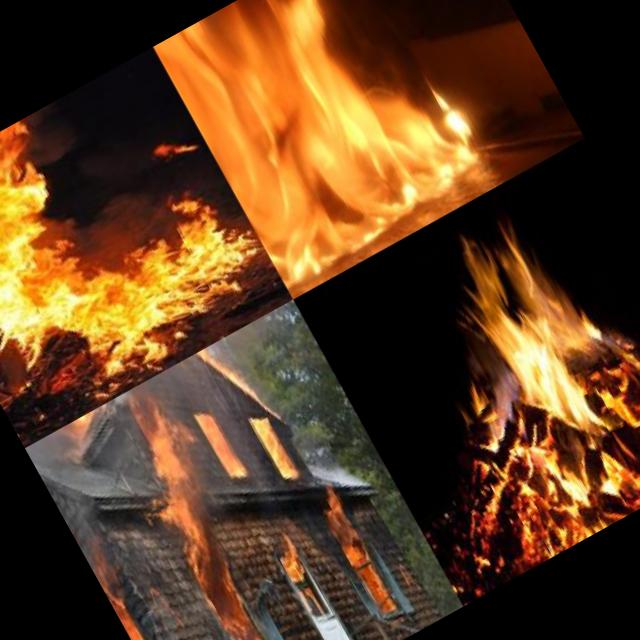fire: (153, 0, 532, 299), (372, 157, 640, 547), (0, 55, 271, 437), (107, 392, 283, 640), (312, 484, 416, 628), (99, 573, 194, 640), (192, 406, 252, 488), (196, 334, 262, 407), (249, 412, 305, 490), (260, 518, 315, 588)
